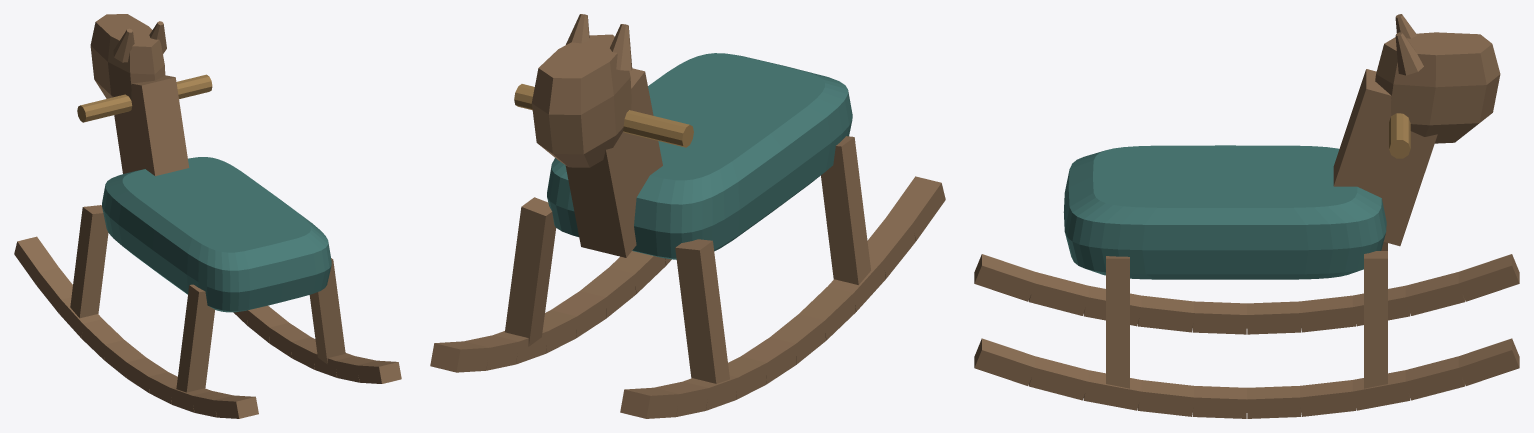
File: H-06_rocker.glb
3 views of the same model, side by side, from view 1: azimuth 30°, elevation 25°; view 2: azimuth 150°, elevation 25°; view 3: azimuth 270°, elevation 25° (orthographic). The views are drawn at different scales.
Parts seen in each view (by area): view 1: H-06_rocker; view 2: H-06_rocker; view 3: H-06_rocker.
Boxes of the visible parts, <box> form: H-06_rocker: <box>14,14,401,418</box>; H-06_rocker: <box>430,14,945,418</box>; H-06_rocker: <box>974,14,1519,418</box>.
Size of the model in its own units: 0.296 by 0.4986 by 0.7097.
